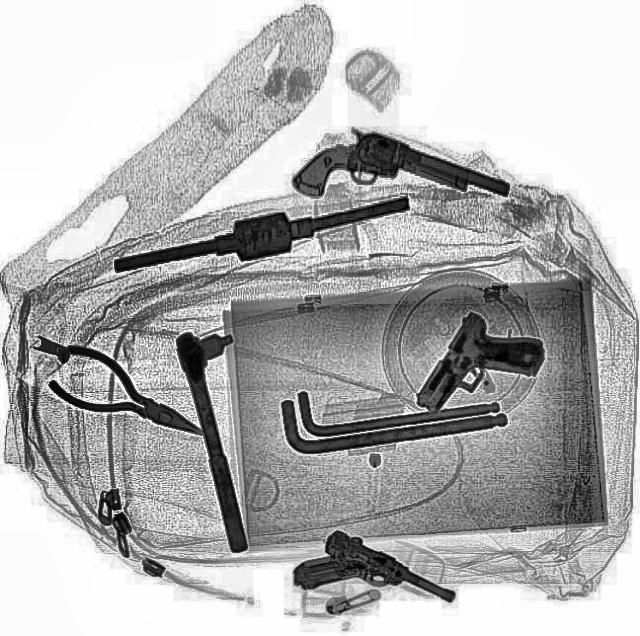Gun: (286, 112, 512, 256), (411, 304, 551, 442), (298, 526, 454, 634)
Pliers: (41, 338, 217, 458)
